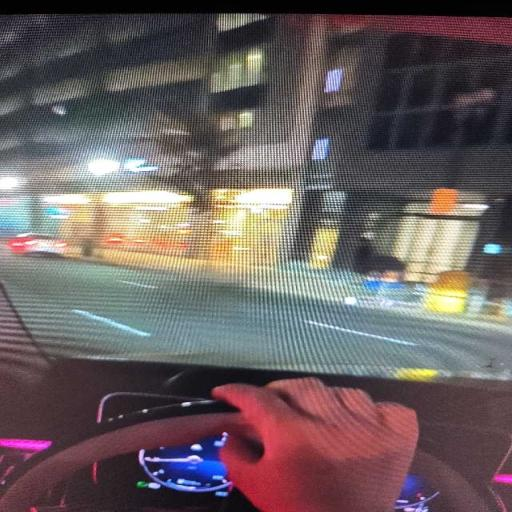car: (8, 233, 67, 255)
lane: (0, 254, 511, 373)
person: (212, 378, 418, 511)
